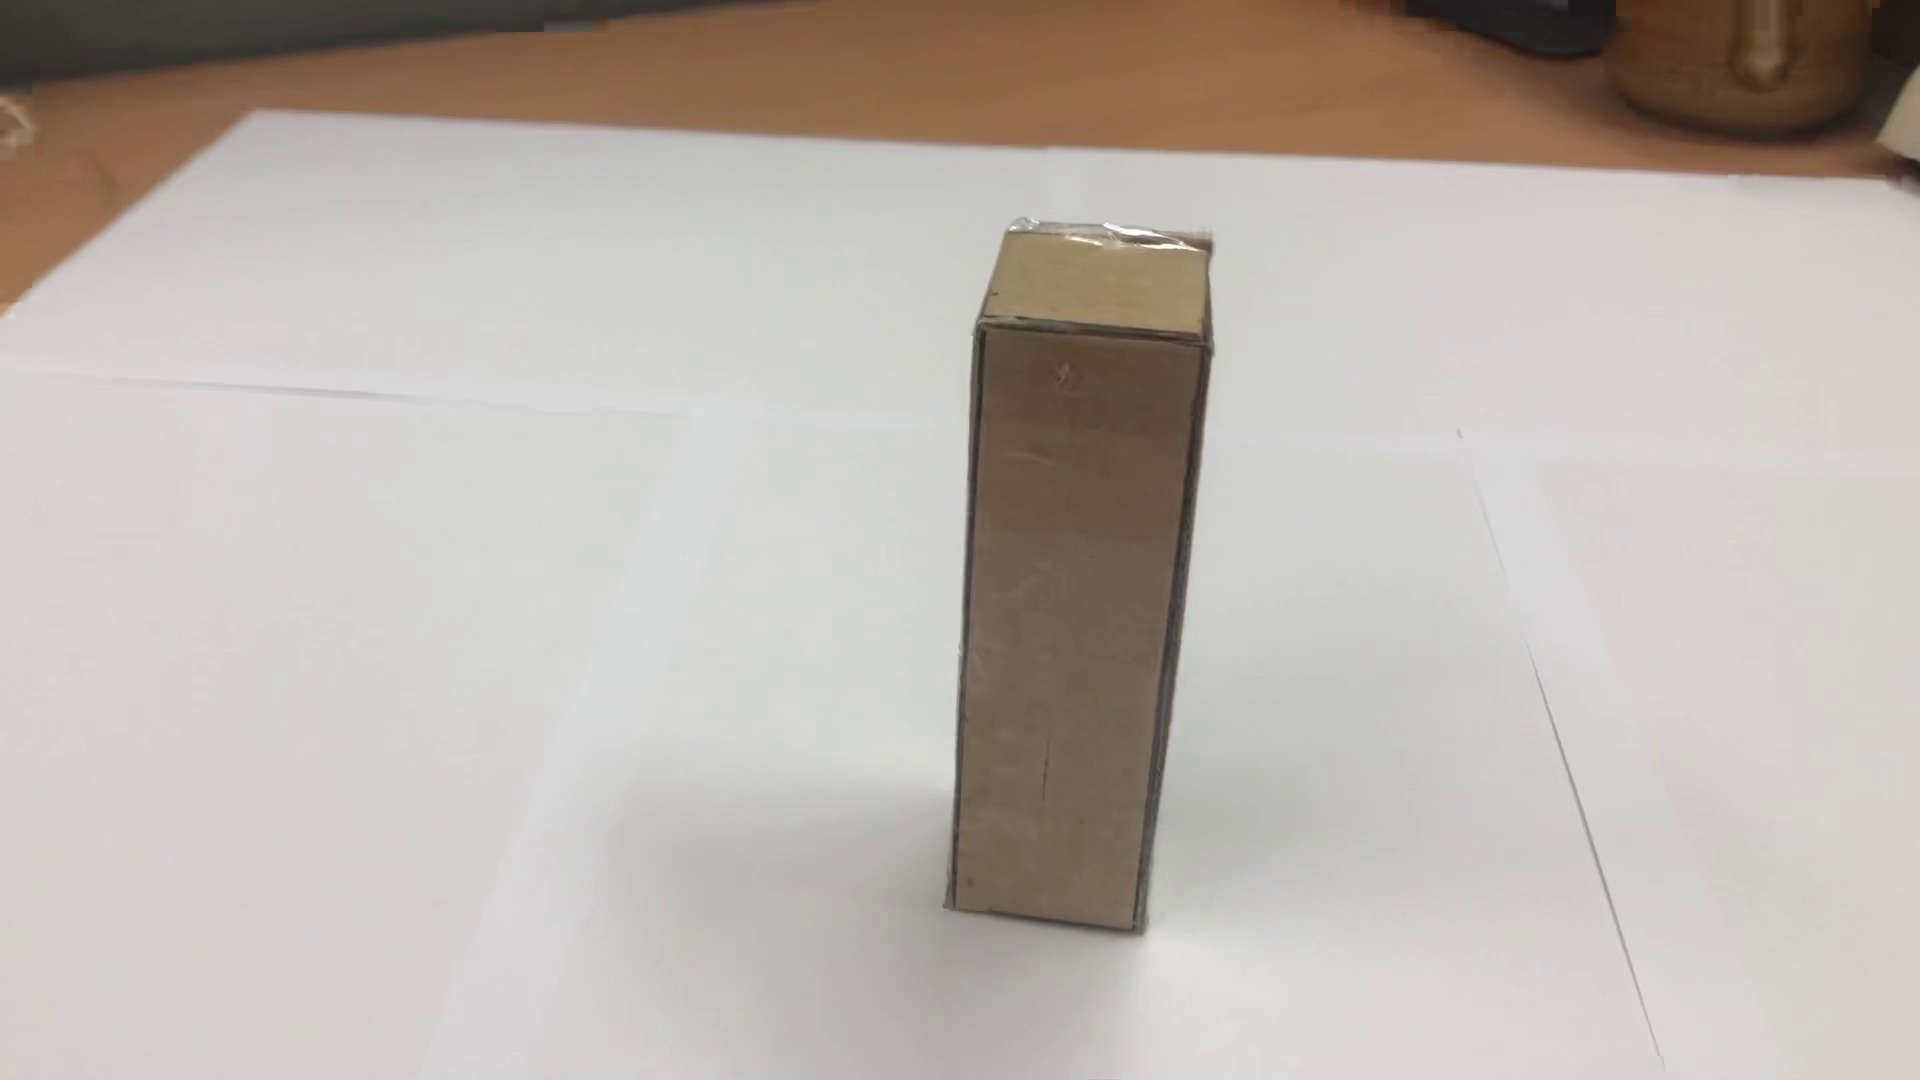box: (930, 202, 1247, 977)
